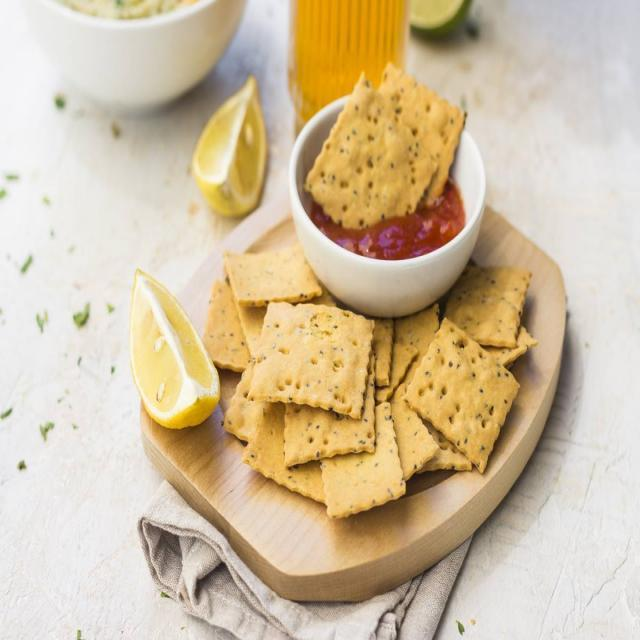Cracker: (307, 77, 433, 230), (406, 318, 521, 467), (253, 295, 374, 421)
